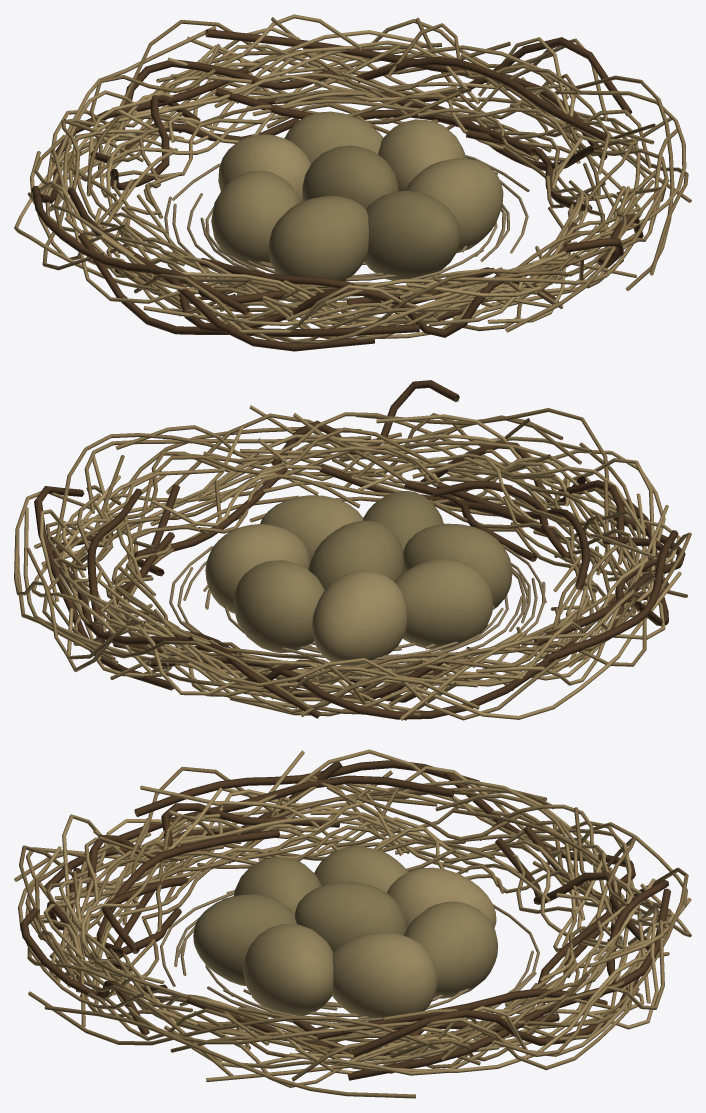
File: eggs.glb
The picture shows the model from 3 angles, top to bottom: view 1: azimuth 30°, elevation 25°; view 2: azimuth 150°, elevation 25°; view 3: azimuth 270°, elevation 25°; orthographic projection.
Parts seen in each view (by area): view 1: eggs_nest_grass, eggs_egg; view 2: eggs_nest_grass, eggs_egg; view 3: eggs_nest_grass, eggs_egg.
Part boxes in pixels (left/top/right/bottom): eggs_nest_grass: left=14, top=14, right=691, bottom=351; eggs_egg: left=211, top=111, right=503, bottom=281; eggs_nest_grass: left=14, top=380, right=691, bottom=720; eggs_egg: left=205, top=491, right=512, bottom=665; eggs_nest_grass: left=14, top=749, right=691, bottom=1098; eggs_egg: left=193, top=846, right=497, bottom=1021.
Size of the model in its own units: 0.2668 by 0.0452 by 0.2642.
